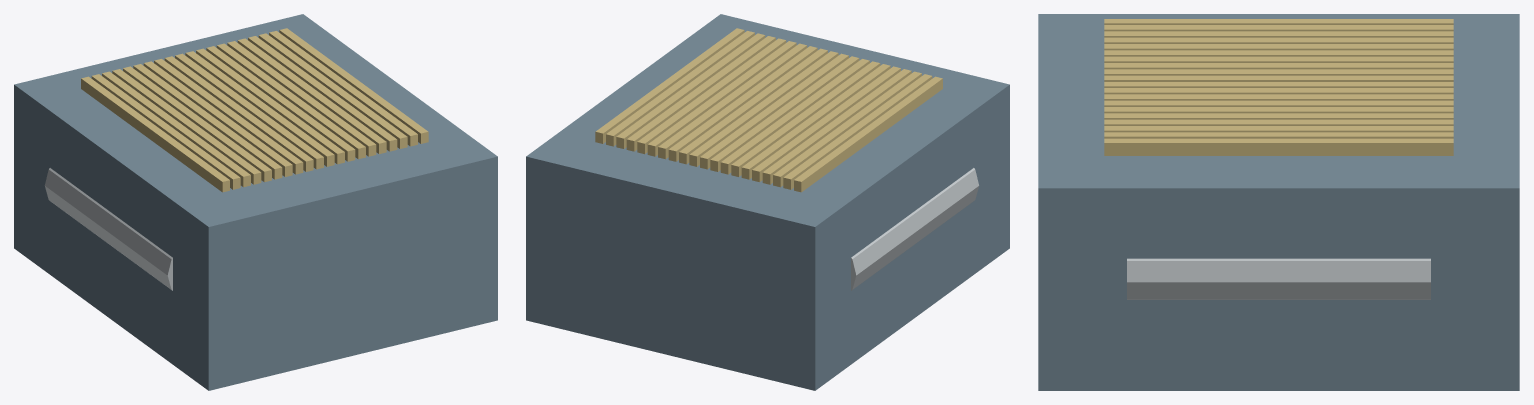
File: 20_L79_NanoYPositioningActuator.glb
3 views of the same model, side by side, from view 1: azimuth 30°, elevation 25°; view 2: azimuth 150°, elevation 25°; view 3: azimuth 270°, elevation 25° (orthographic). The views are drawn at different scales.
Parts seen in each view (by area): view 1: NanoYPositioningActuator_Node_0000, NanoYPositioningActuator_Node_0021, NanoYPositioningActuator_Node_0001, NanoYPositioningActuator_Node_0008, NanoYPositioningActuator_Node_0017, NanoYPositioningActuator_Node_0016, NanoYPositioningActuator_Node_0004, NanoYPositioningActuator_Node_0020, NanoYPositioningActuator_Node_0007, NanoYPositioningActuator_Node_0002, NanoYPositioningActuator_Node_0006, NanoYPositioningActuator_Node_0009 (+10 smaller); view 2: NanoYPositioningActuator_Node_0000, NanoYPositioningActuator_Node_0021, NanoYPositioningActuator_Node_0001, NanoYPositioningActuator_Node_0008, NanoYPositioningActuator_Node_0017, NanoYPositioningActuator_Node_0016, NanoYPositioningActuator_Node_0004, NanoYPositioningActuator_Node_0020, NanoYPositioningActuator_Node_0007, NanoYPositioningActuator_Node_0002, NanoYPositioningActuator_Node_0006, NanoYPositioningActuator_Node_0009 (+10 smaller); view 3: NanoYPositioningActuator_Node_0000, NanoYPositioningActuator_Node_0022, NanoYPositioningActuator_Node_0020, NanoYPositioningActuator_Node_0002, NanoYPositioningActuator_Node_0003, NanoYPositioningActuator_Node_0004, NanoYPositioningActuator_Node_0005, NanoYPositioningActuator_Node_0006, NanoYPositioningActuator_Node_0007, NanoYPositioningActuator_Node_0008, NanoYPositioningActuator_Node_0009, NanoYPositioningActuator_Node_0010 (+10 smaller).
Part boxes in pixels (bbox=[...]): NanoYPositioningActuator_Node_0000: bbox=[14, 14, 497, 390]; NanoYPositioningActuator_Node_0021: bbox=[44, 168, 172, 290]; NanoYPositioningActuator_Node_0001: bbox=[81, 76, 229, 192]; NanoYPositioningActuator_Node_0008: bbox=[154, 59, 303, 174]; NanoYPositioningActuator_Node_0017: bbox=[248, 36, 397, 151]; NanoYPositioningActuator_Node_0016: bbox=[237, 38, 386, 154]; NanoYPositioningActuator_Node_0004: bbox=[112, 69, 261, 184]; NanoYPositioningActuator_Node_0020: bbox=[279, 28, 428, 143]; NanoYPositioningActuator_Node_0007: bbox=[143, 61, 292, 176]; NanoYPositioningActuator_Node_0002: bbox=[91, 74, 240, 189]; NanoYPositioningActuator_Node_0006: bbox=[133, 64, 282, 179]; NanoYPositioningActuator_Node_0009: bbox=[164, 56, 313, 171]; NanoYPositioningActuator_Node_0000: bbox=[526, 14, 1009, 390]; NanoYPositioningActuator_Node_0021: bbox=[851, 168, 979, 290]; NanoYPositioningActuator_Node_0001: bbox=[794, 76, 942, 192]; NanoYPositioningActuator_Node_0008: bbox=[720, 59, 869, 174]; NanoYPositioningActuator_Node_0017: bbox=[626, 36, 775, 151]; NanoYPositioningActuator_Node_0016: bbox=[637, 38, 786, 154]; NanoYPositioningActuator_Node_0004: bbox=[762, 69, 911, 184]; NanoYPositioningActuator_Node_0020: bbox=[595, 28, 744, 143]; NanoYPositioningActuator_Node_0007: bbox=[731, 61, 880, 176]; NanoYPositioningActuator_Node_0002: bbox=[783, 74, 932, 189]; NanoYPositioningActuator_Node_0006: bbox=[741, 64, 890, 179]; NanoYPositioningActuator_Node_0009: bbox=[710, 56, 859, 171]; NanoYPositioningActuator_Node_0000: bbox=[1038, 14, 1519, 390]; NanoYPositioningActuator_Node_0022: bbox=[1127, 258, 1430, 299]; NanoYPositioningActuator_Node_0020: bbox=[1104, 138, 1453, 155]; NanoYPositioningActuator_Node_0002: bbox=[1104, 25, 1453, 31]; NanoYPositioningActuator_Node_0003: bbox=[1104, 31, 1453, 37]; NanoYPositioningActuator_Node_0004: bbox=[1104, 37, 1453, 43]; NanoYPositioningActuator_Node_0005: bbox=[1104, 44, 1453, 50]; NanoYPositioningActuator_Node_0006: bbox=[1104, 50, 1453, 56]; NanoYPositioningActuator_Node_0007: bbox=[1104, 56, 1453, 62]; NanoYPositioningActuator_Node_0008: bbox=[1104, 63, 1453, 69]; NanoYPositioningActuator_Node_0009: bbox=[1104, 69, 1453, 75]; NanoYPositioningActuator_Node_0010: bbox=[1104, 75, 1453, 81].
Bounding box in the file's own units: 0.746 × 0.4275 × 0.84.
